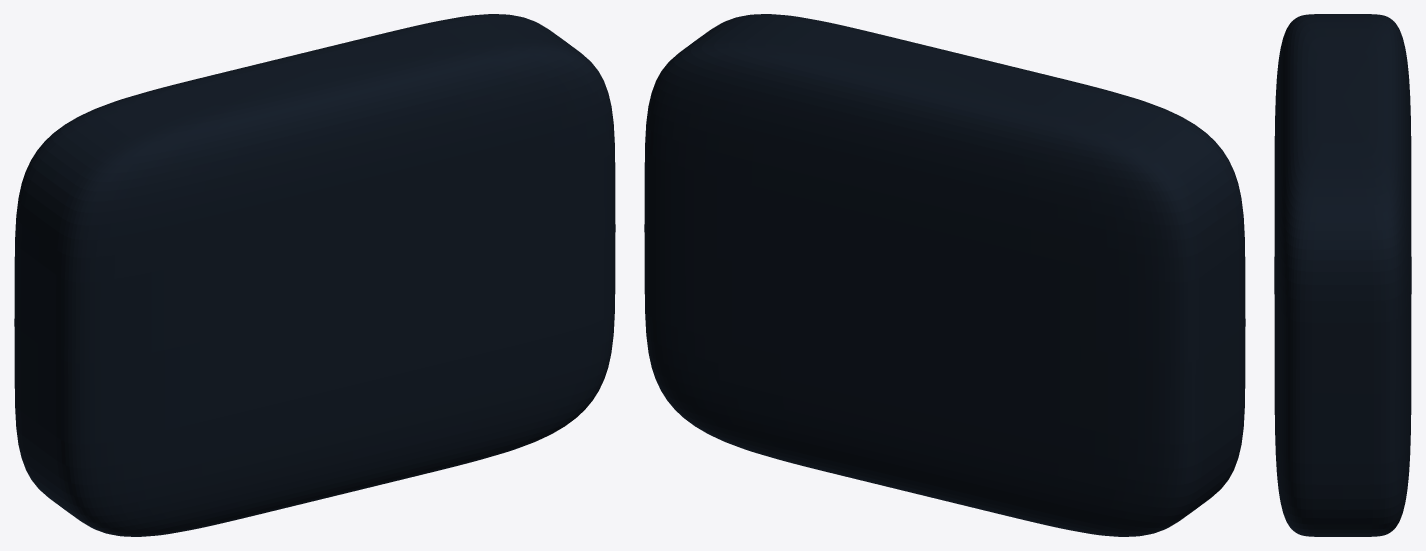
File: face_glass.glb
3 renders of one model, left to right at view 1: azimuth 30°, elevation 25°; view 2: azimuth 150°, elevation 25°; view 3: azimuth 270°, elevation 25°, orthographic. The views are drawn at different scales.
Parts seen in each view (by area): view 1: KUMA_Reference_VisorGlass; view 2: KUMA_Reference_VisorGlass; view 3: KUMA_Reference_VisorGlass.
Boxes of the visible parts, bbox=[...] form: KUMA_Reference_VisorGlass: bbox=[14, 14, 615, 536]; KUMA_Reference_VisorGlass: bbox=[644, 14, 1245, 536]; KUMA_Reference_VisorGlass: bbox=[1274, 14, 1411, 536].
Size of the model in its own units: 102 by 72 by 25.
